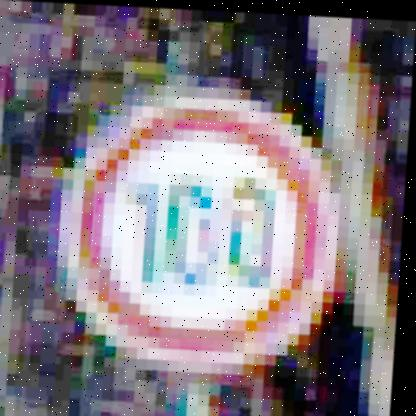Speed Limit -100-: (54, 89, 349, 374)
